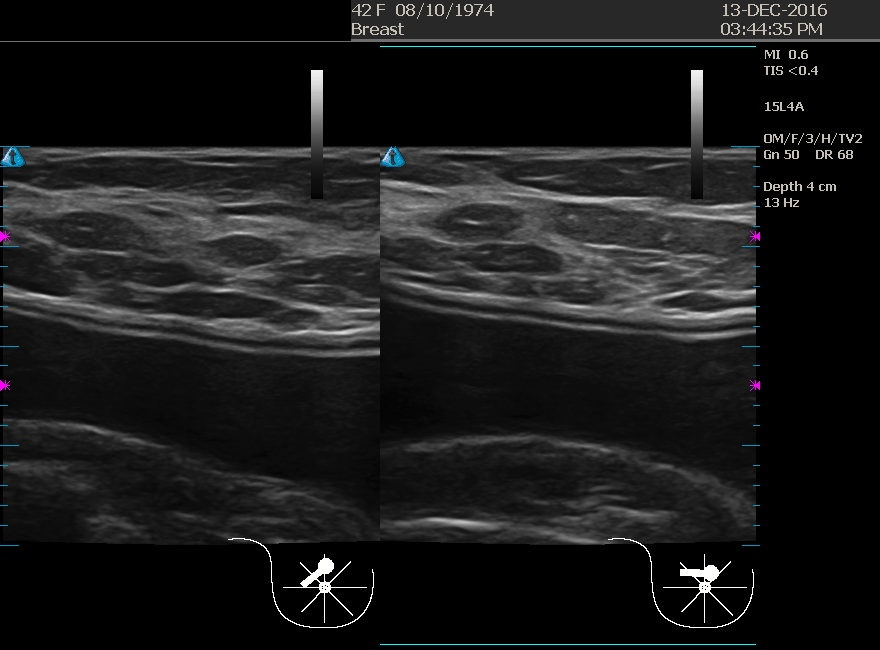BIRADS_2: (407, 150, 607, 350)
BIRADS_3: (20, 172, 220, 372)
